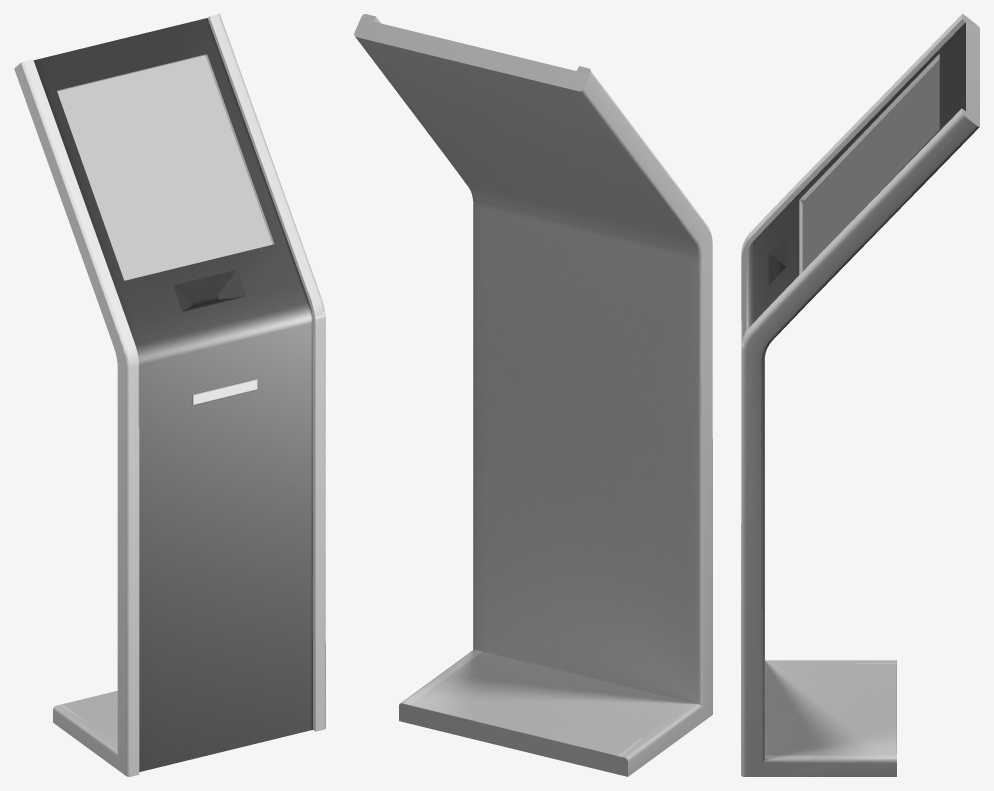
3 renders of one model, left to right at view 1: azimuth 30°, elevation 25°; view 2: azimuth 150°, elevation 25°; view 3: azimuth 270°, elevation 25°, orthographic. The views are drawn at different scales.
Visible parts, largest first — view 1: Cube, Flat_08011728, Cube.002; view 2: Cube; view 3: Cube, Flat_08011728.
Boxes of the visible parts, x1,y1,x2,y2 form: Cube: (14, 14, 325, 776); Flat_08011728: (57, 55, 272, 280); Cube.002: (193, 379, 257, 405); Cube: (354, 14, 712, 776); Cube: (741, 14, 979, 776); Flat_08011728: (802, 60, 939, 271).
Bounding box in the file's own units: 0.3569 × 1.09 × 0.3568.
Materials: 5 (4 with a texture image).
